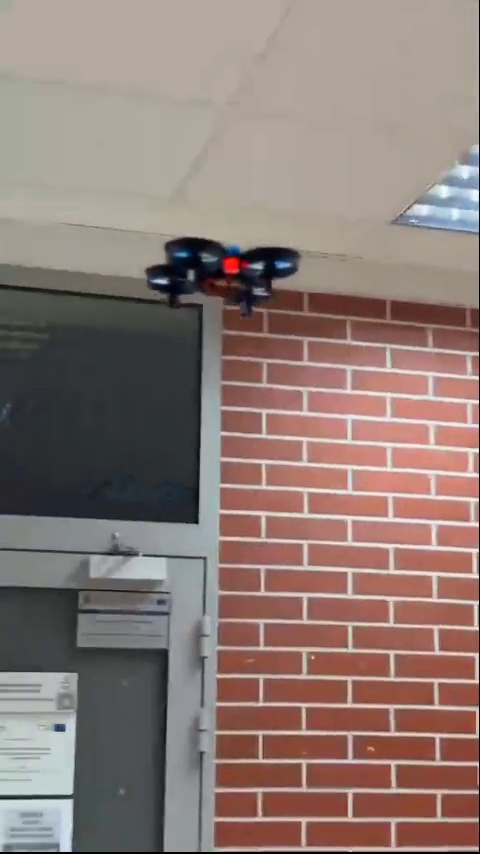drone: (148, 235, 300, 314)
